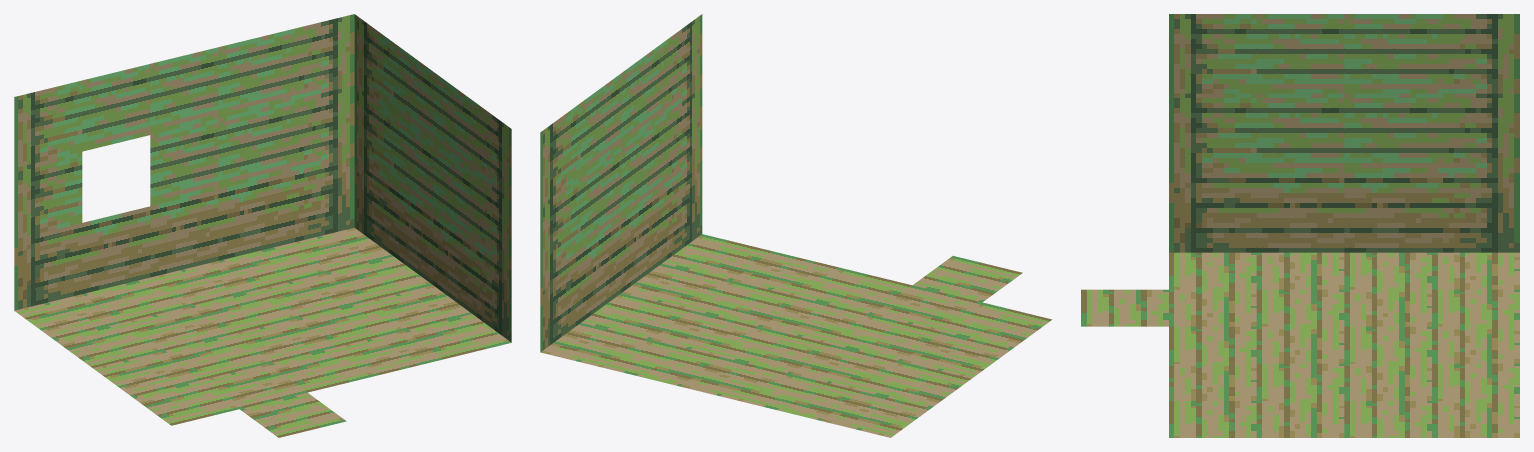
File: testtreehouseinterior.gltf
3 views of the same model, side by side, from view 1: azimuth 30°, elevation 25°; view 2: azimuth 150°, elevation 25°; view 3: azimuth 270°, elevation 25° (orthographic). The views are drawn at different scales.
Parts seen in each view (by area): view 1: thmesh-col; view 2: thmesh-col; view 3: thmesh-col.
Part boxes in pixels (<box>): thmesh-col: <box>14,14,511,437</box>; thmesh-col: <box>540,14,1052,437</box>; thmesh-col: <box>1081,14,1519,437</box>.
Bounding box in the file's own units: 5 × 3 × 5.
1 material, 1 textured.
